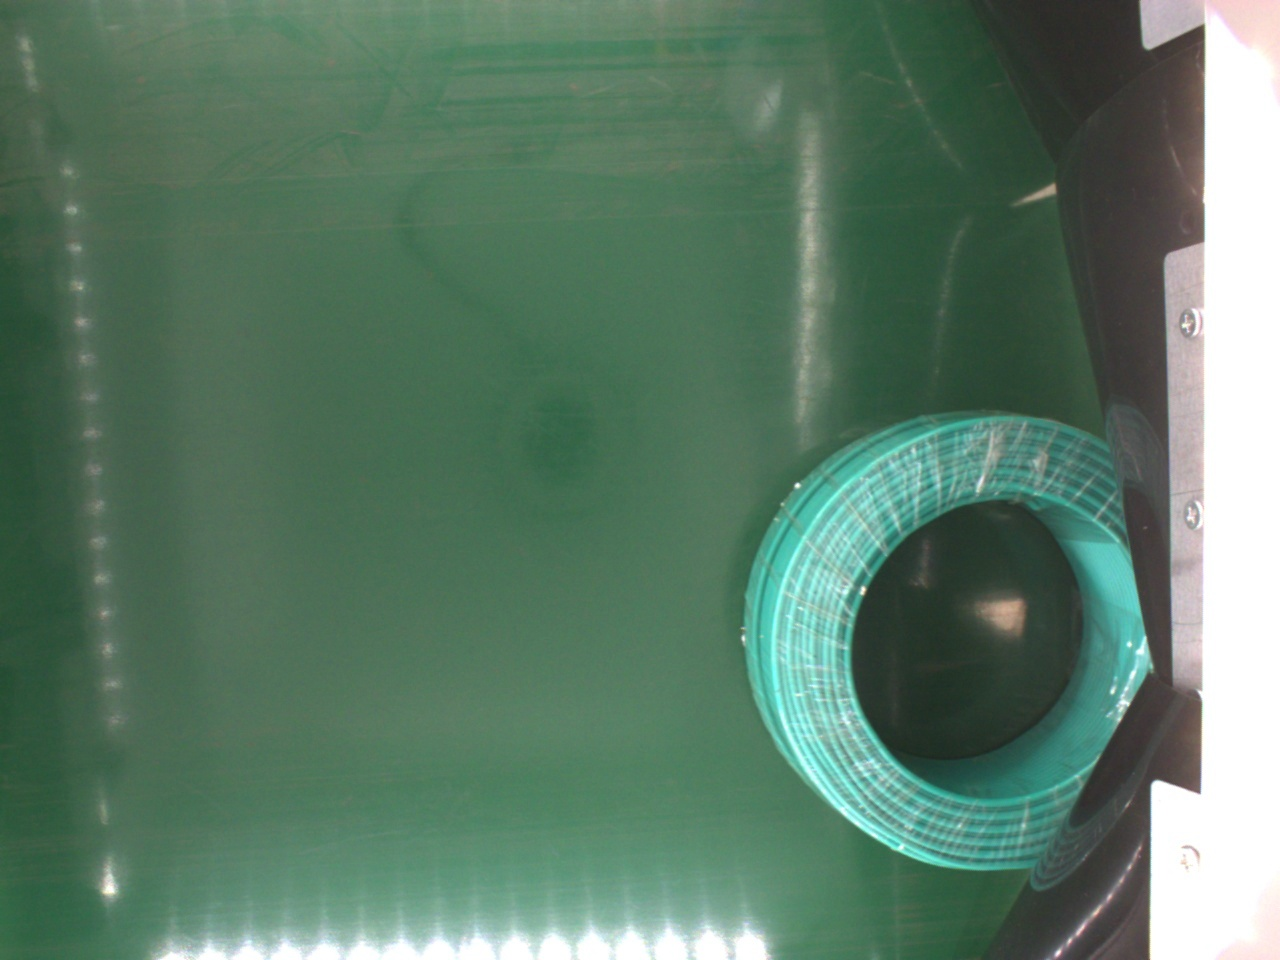green: (740, 409, 1146, 879)
